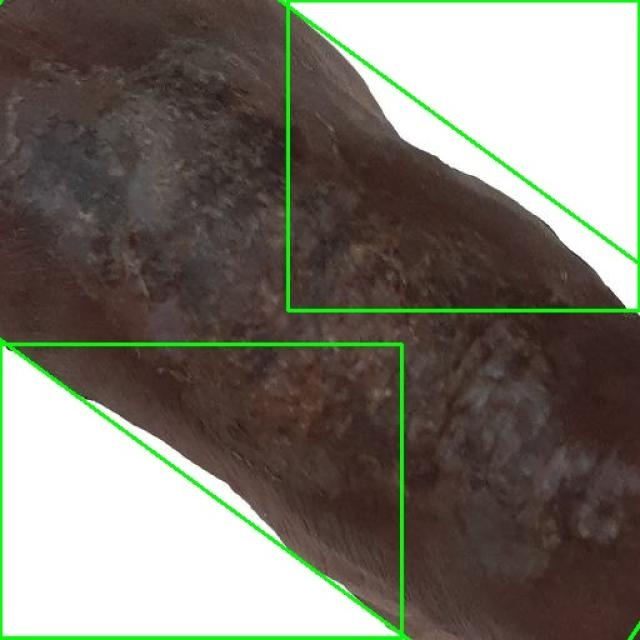Contact Dermatitis: (0, 0, 640, 640), (0, 345, 402, 639), (288, 0, 639, 311)
